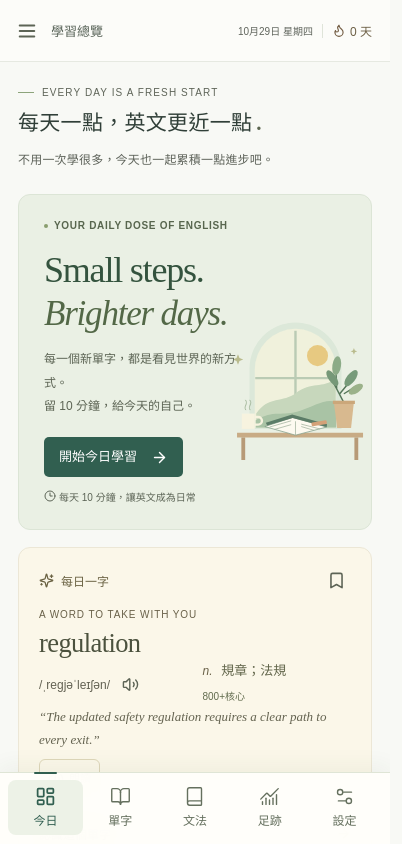
Test: Mobile navigation and sentence speech › provides five bottom tabs with an active page while preserving the original navigation
Click the button "單字" at (120, 808), box [83,780,158,835]
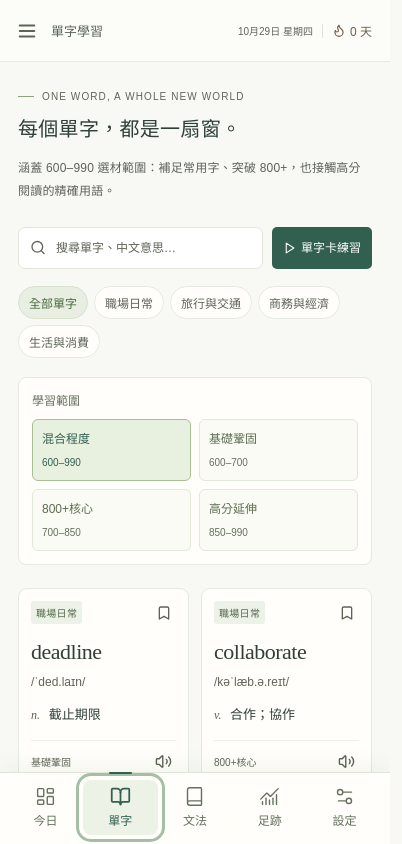
Now the field named "搜尋單字或中文意思" is shown, box [54,228,251,268]
Click the button "足跡" at (270, 808), box [232,780,307,835]
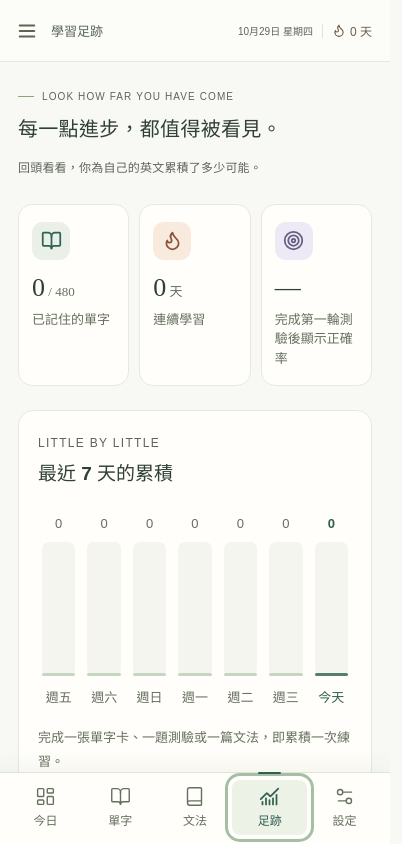
Click the button "設定" at (345, 808), box [307,780,382,835]
(page scrolled)
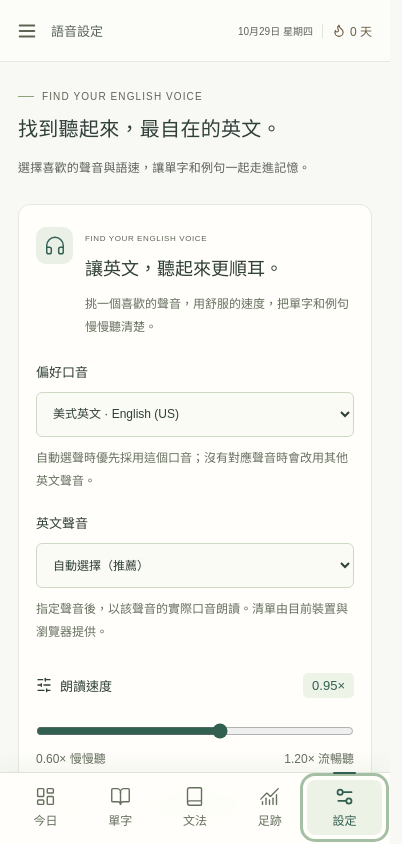
Now the heading "找到聽起來，最自在的英文。" is shown, box [18,118,282,140]
